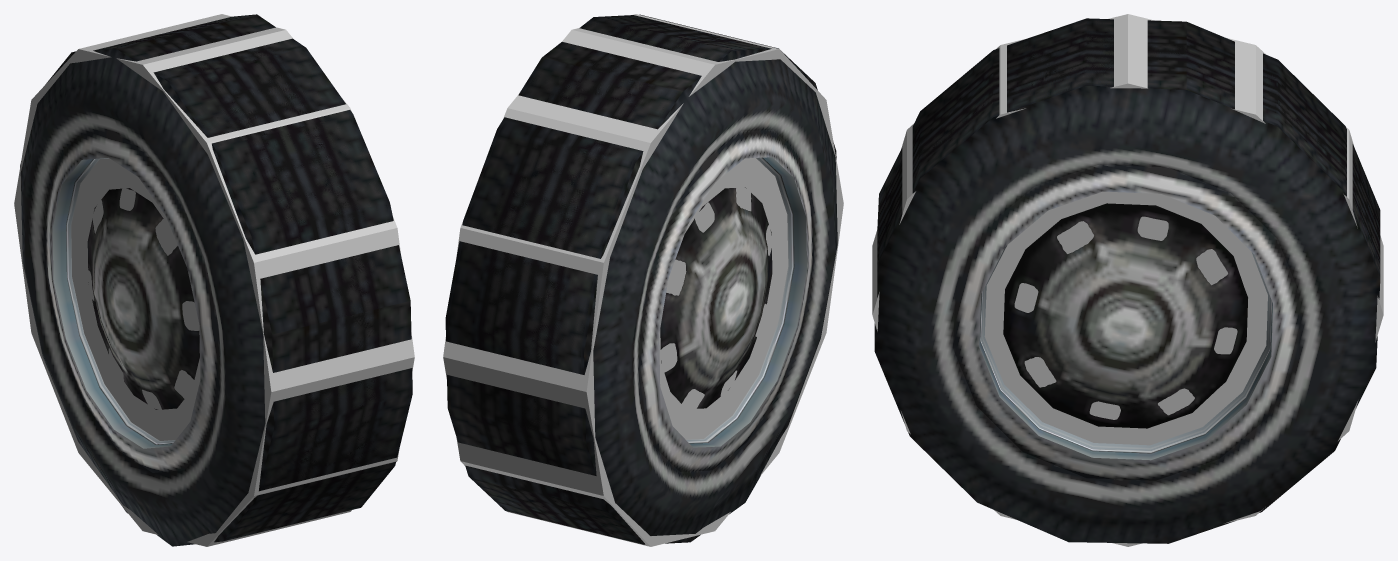
The model's file is tire_15_out.fbx.
The picture shows the model from 3 angles, left to right: view 1: azimuth 30°, elevation 25°; view 2: azimuth 150°, elevation 25°; view 3: azimuth 270°, elevation 25°; orthographic projection.
Visible parts, largest first — view 1: Surface3, Surface8, tire_fr_shadow, Surface4, Surface9; view 2: Surface3, Surface8, tire_fr_shadow, Surface4, Surface9; view 3: Surface8, Surface9, Surface3, tire_fr_shadow, Surface4.
Part boxes in pixels (x1,y1,x2,y2): Surface3: (20,20,409,546); Surface8: (45,14,412,540); tire_fr_shadow: (14,14,414,546); Surface4: (66,158,199,444); Surface9: (52,159,172,448); Surface3: (449,18,837,544); Surface8: (445,14,814,517); tire_fr_shadow: (443,14,843,546); Surface4: (660,157,794,443); Surface9: (690,157,807,447); Surface8: (874,20,1380,543); Surface9: (980,203,1272,453); Surface3: (877,18,1380,480); tire_fr_shadow: (872,14,1383,546); Surface4: (979,294,1272,460).
Bounding box in the file's own units: 0.3073 × 0.7197 × 0.7194.
